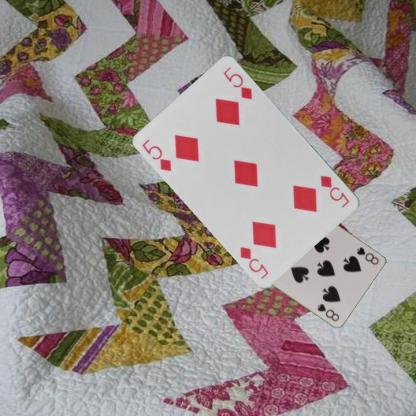5d: (140, 136, 173, 173), (318, 173, 350, 209)
8s: (354, 244, 380, 266)
